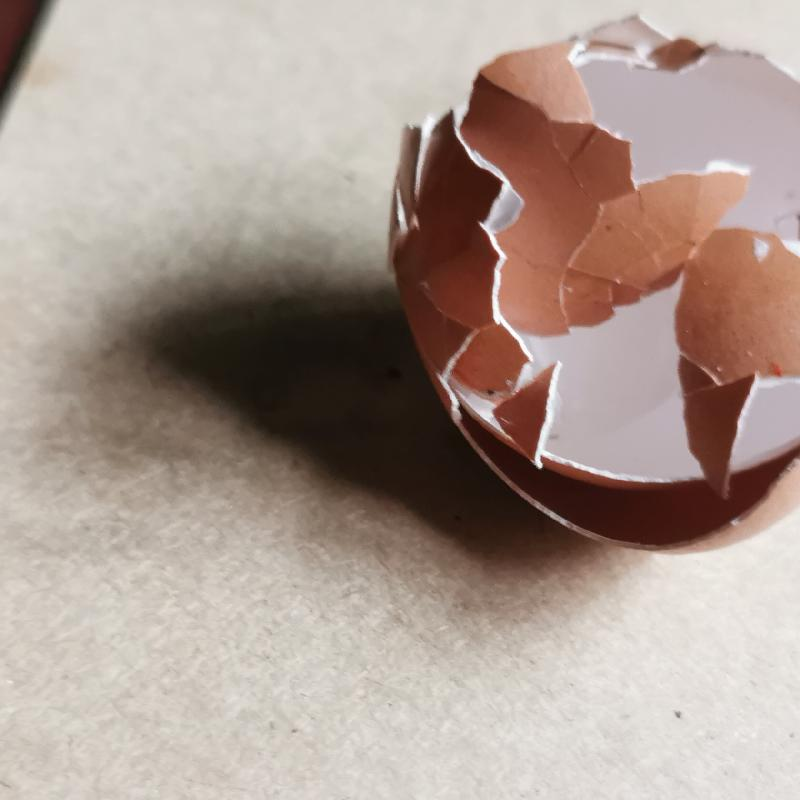eggshell: (385, 16, 800, 554)
